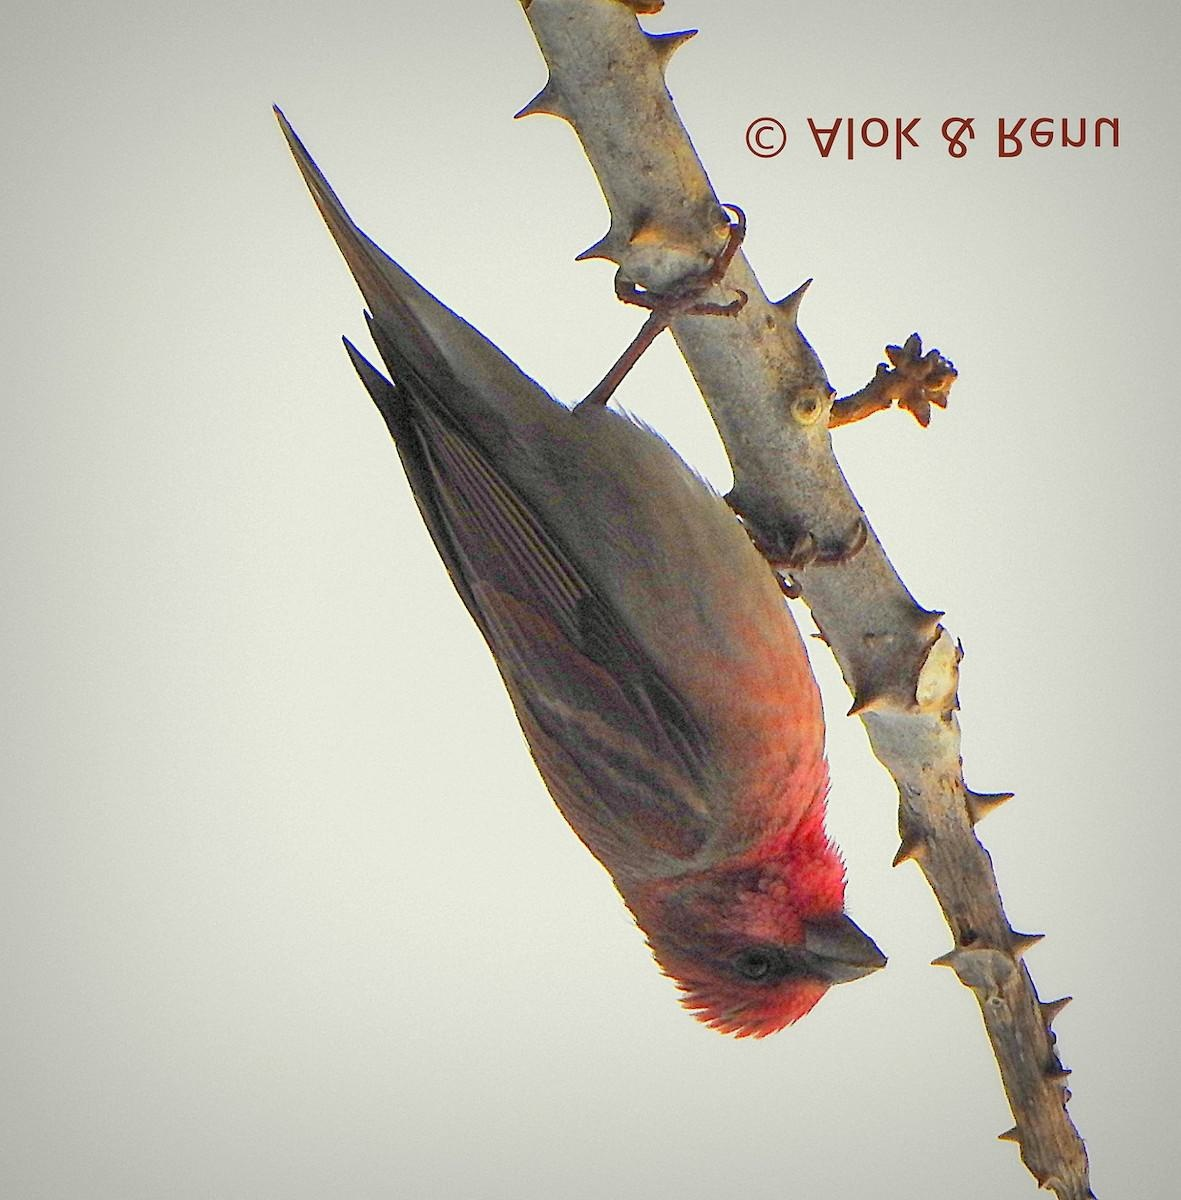rosefinch: (384, 221, 904, 1059)
